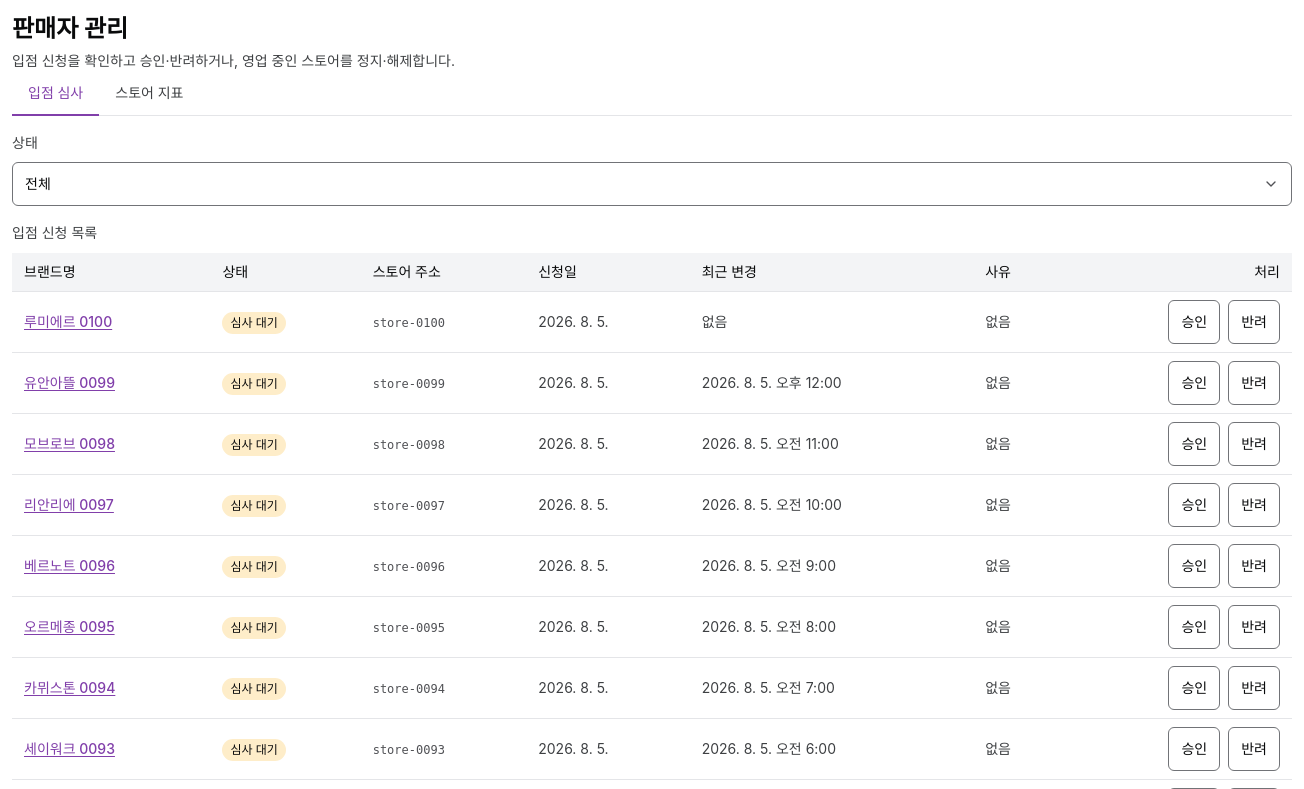
Test: 탭 (TASK-0094 4.3) › reads the store metrics only once the tab is opened
The image size is (1304, 789).
Click the tab "스토어 지표".
click(149, 94)  # box x1=99 y1=72 x2=199 y2=116
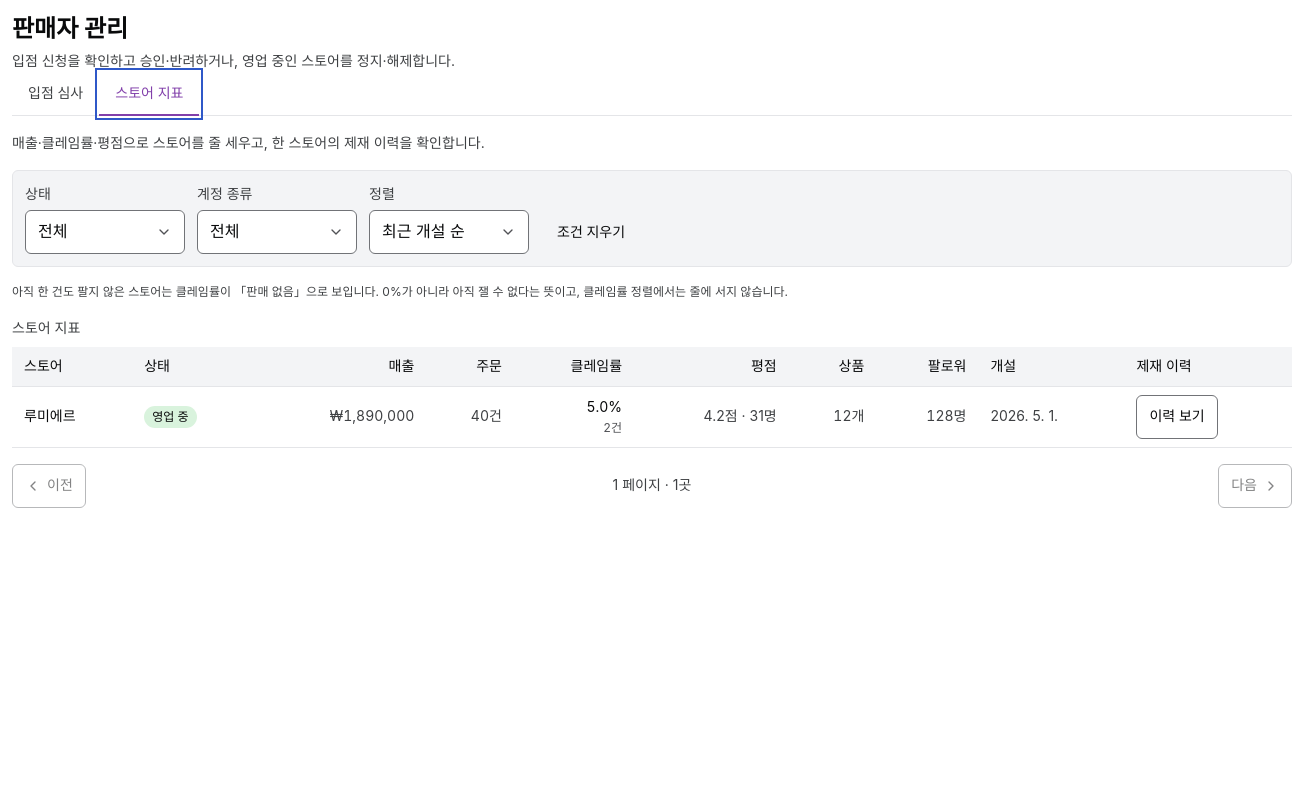
Check: the table "스토어 지표" is shown, box x1=12 y1=317 x2=1292 y2=448
